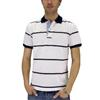abbigliamento_uomo: (23, 16, 81, 91)
